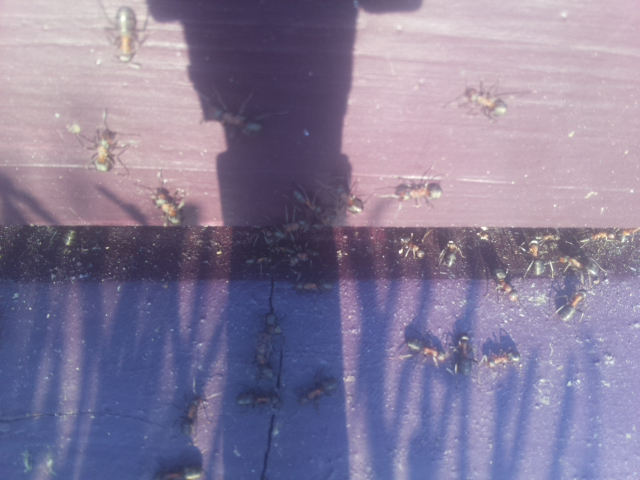ant: (201, 97, 265, 140), (92, 182, 149, 227), (455, 79, 514, 122), (109, 1, 144, 68), (145, 181, 190, 230), (174, 384, 214, 439), (389, 177, 450, 210), (294, 371, 344, 409), (332, 174, 371, 222), (286, 184, 331, 225), (391, 337, 452, 366), (90, 124, 121, 175), (237, 382, 282, 412), (555, 288, 590, 326), (491, 266, 521, 306), (454, 331, 477, 380), (395, 231, 428, 263), (436, 236, 465, 269), (487, 352, 524, 366)
